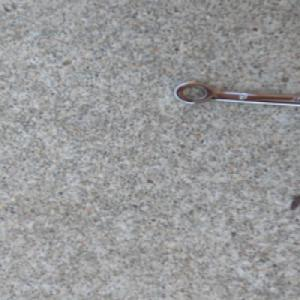Wrench: (171, 80, 300, 108)
